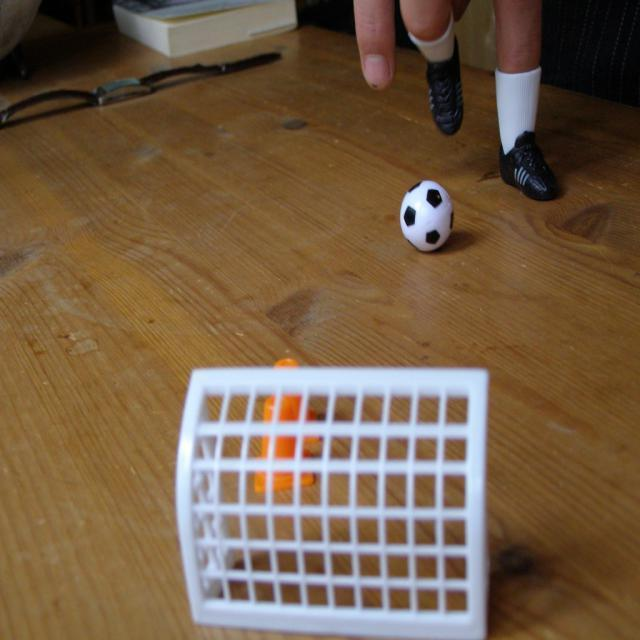football: (388, 169, 466, 265)
